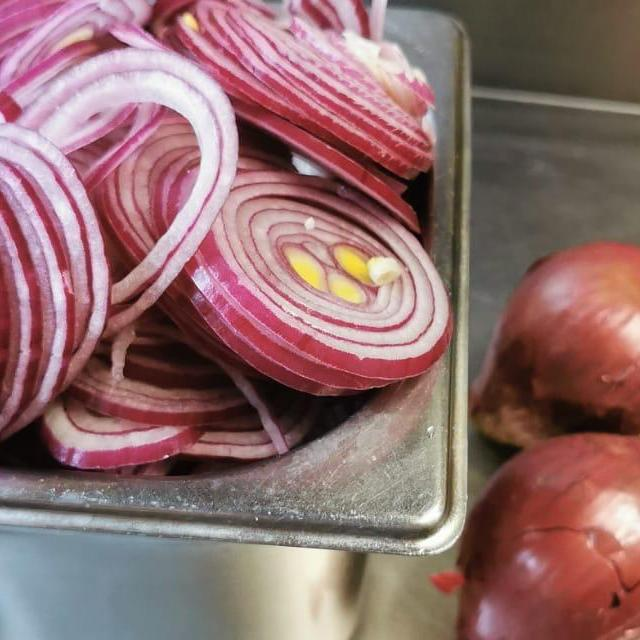onion: (0, 0, 449, 505), (391, 420, 640, 640), (466, 207, 640, 457)
